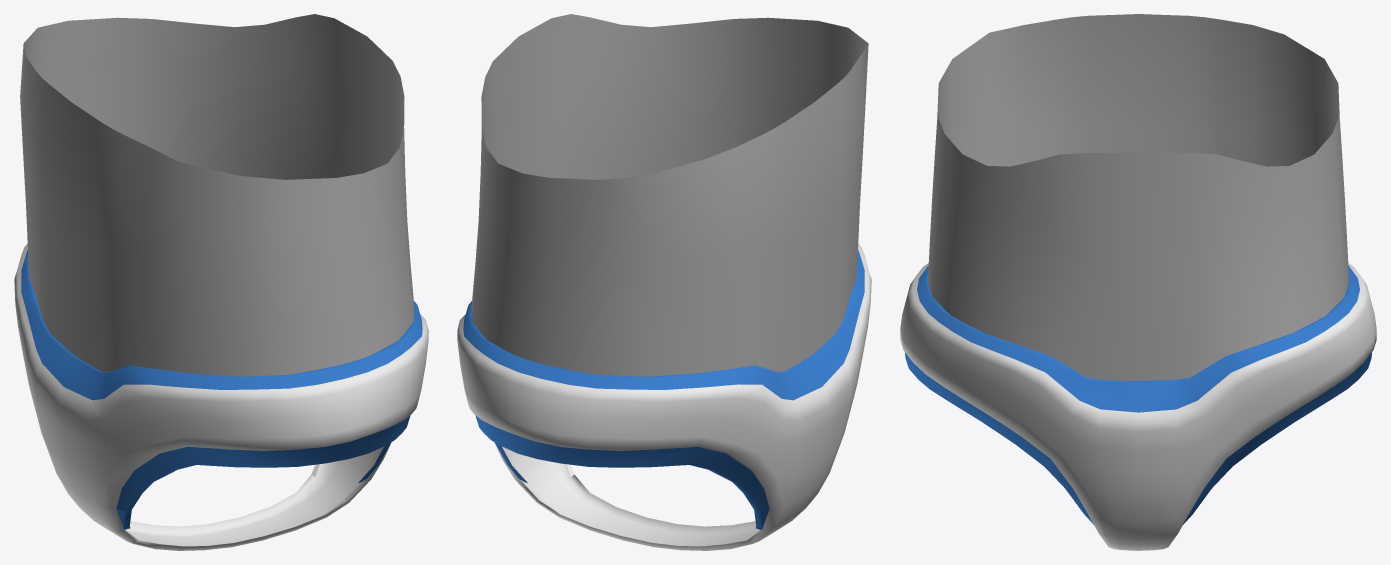
Rendered from TrunkYaw.dae.
3 renders of one model, left to right at view 1: azimuth 30°, elevation 25°; view 2: azimuth 150°, elevation 25°; view 3: azimuth 270°, elevation 25°, orthographic. The views are drawn at different scales.
Visible parts, largest first — view 1: TrunkYaw; view 2: TrunkYaw; view 3: TrunkYaw.
Part boxes in pixels (x1,y1,x2,y2): TrunkYaw: (14, 14, 428, 550); TrunkYaw: (457, 14, 871, 550); TrunkYaw: (900, 14, 1376, 550).
Bounding box in the file's own units: 0.2302 × 0.3145 × 0.3182.
